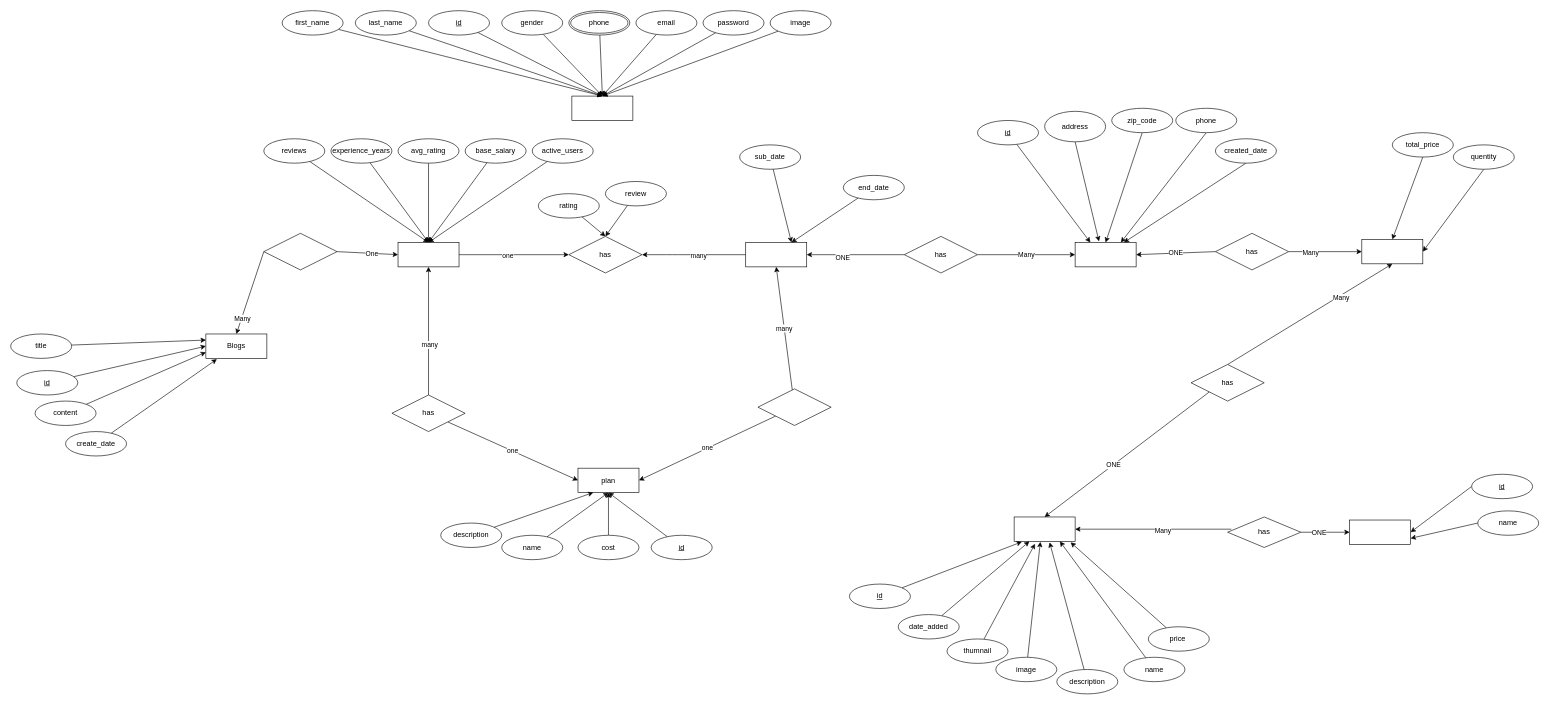
The diagram is 1549 pixels wide and 705 high, and some of its shapes have lost their labels. Each missing label, with the centre of its shape:
"category" goes at point 1380,531.
"order_Items" goes at point 1392,251.
"orders" goes at point 1105,254.
"products" goes at point 1044,528.
"subscribe" goes at point 794,406.
"super_user" goes at point 602,107.
"trainer" goes at point 428,254.
"user" goes at point 776,254.
"writes" goes at point 300,251.
